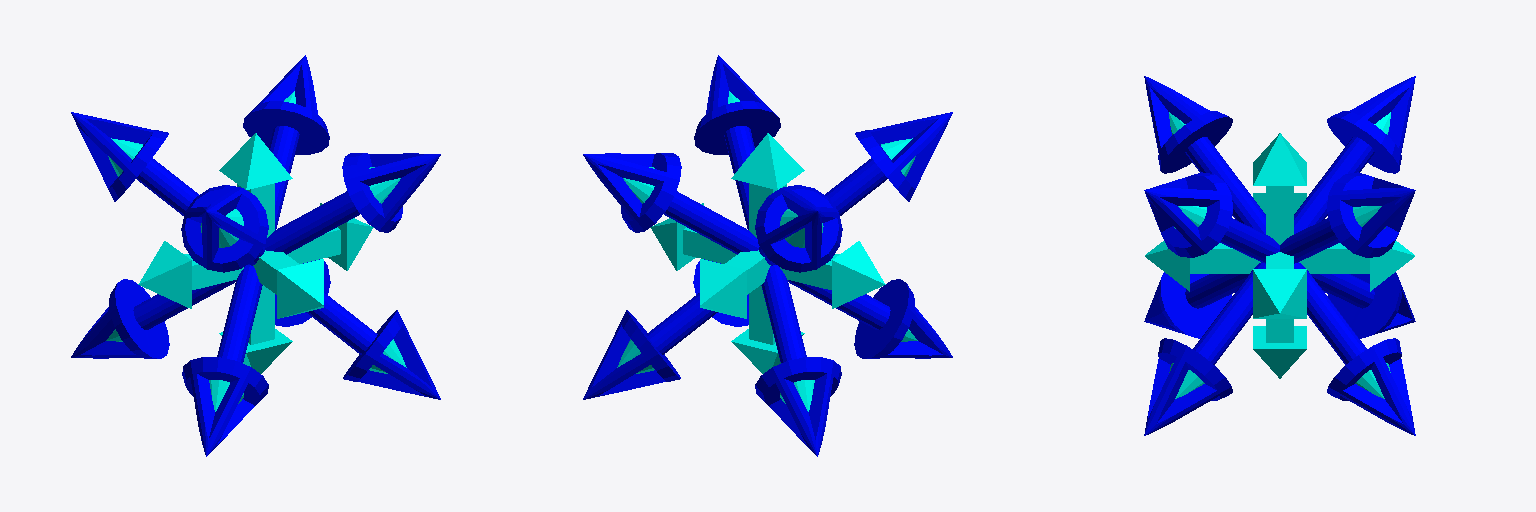
Rendered from _icon_141.obj.
3 renders of one model, left to right at view 1: azimuth 30°, elevation 25°; view 2: azimuth 150°, elevation 25°; view 3: azimuth 270°, elevation 25°, orthographic.
Parts seen in each view (by area): view 1: SubMesh_0_Mesh_0.022, Cube_Cube.007; view 2: SubMesh_0_Mesh_0.022, Cube_Cube.007; view 3: SubMesh_0_Mesh_0.022, Cube_Cube.007.
Part boxes in pixels (left/top/right/bottom): SubMesh_0_Mesh_0.022: left=71, top=55, right=440, bottom=456; Cube_Cube.007: left=138, top=133, right=373, bottom=373; SubMesh_0_Mesh_0.022: left=583, top=55, right=952, bottom=456; Cube_Cube.007: left=650, top=133, right=885, bottom=373; SubMesh_0_Mesh_0.022: left=1144, top=76, right=1415, bottom=435; Cube_Cube.007: left=1145, top=133, right=1414, bottom=378.
Size of the model in its own units: 0.02 by 0.02 by 0.02.